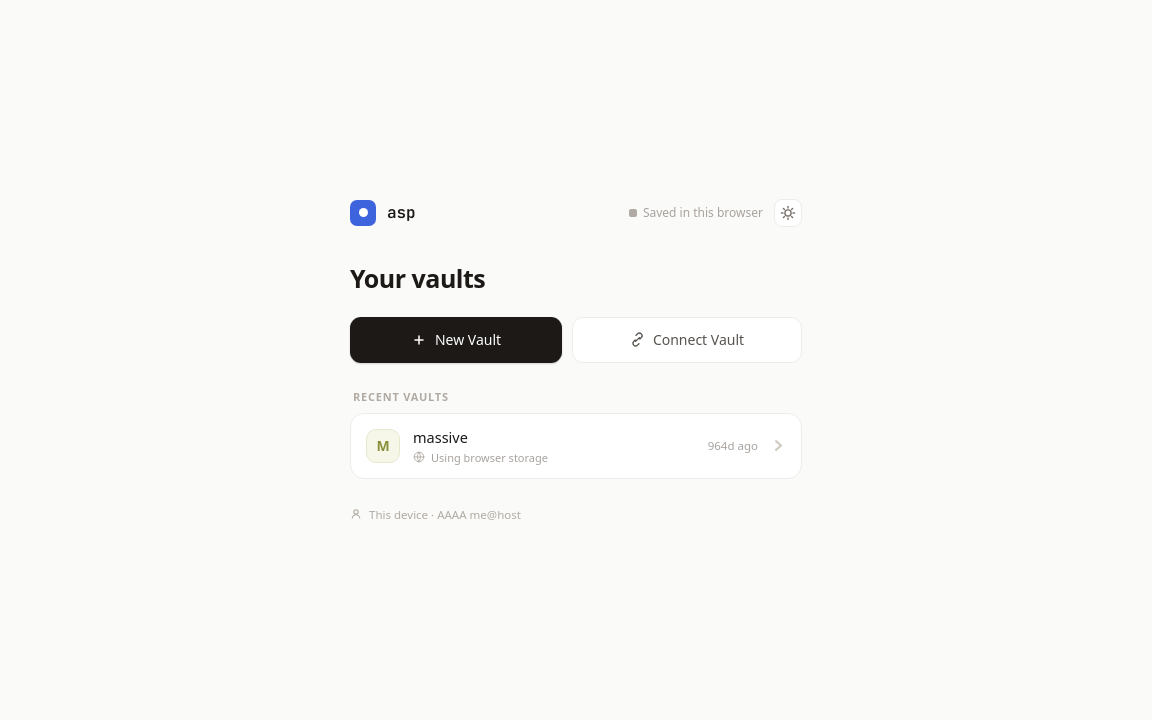
Scenario: App at scale (~1000 files) › virtualizes the file tree (bounded DOM rows despite 1000 files)
What coordinates should you click on to do the following:
click the text "massive"
I would click on:
 (440, 436)
Its box is [413, 426, 468, 446].
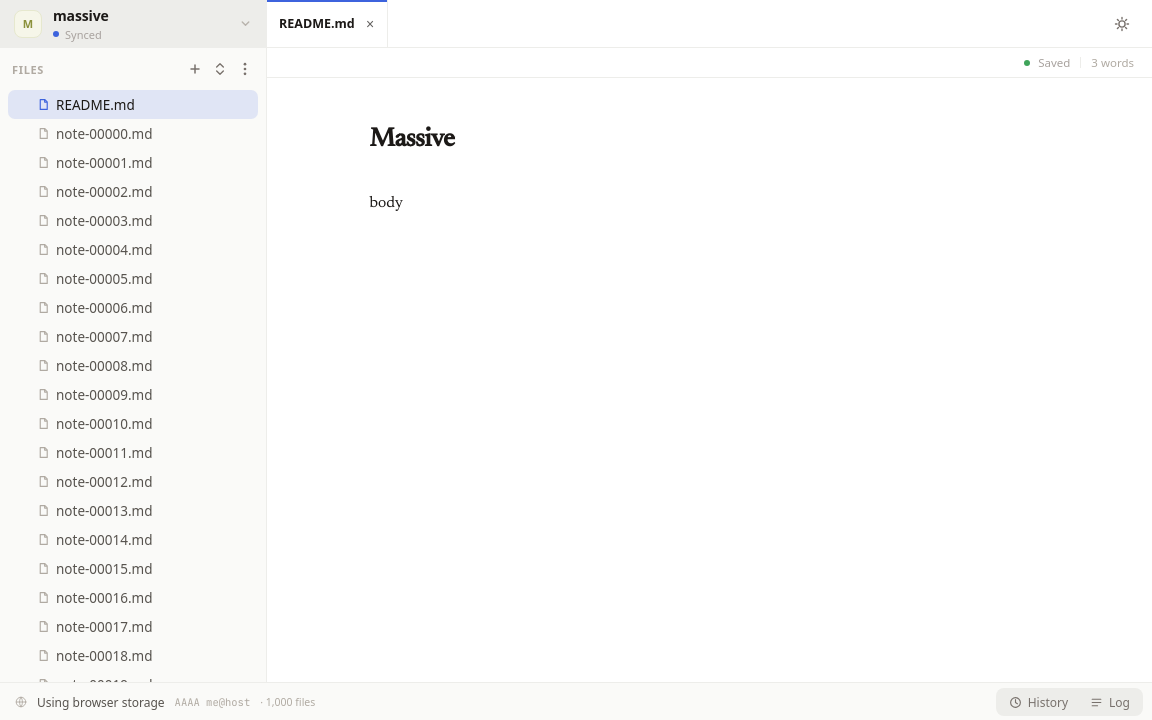
Expected: the text "Files" is shown, [12, 62, 44, 76]
Expected: the element with class "asp-hover-row" showing "M massive Synced" is shown, [0, 0, 266, 47]
